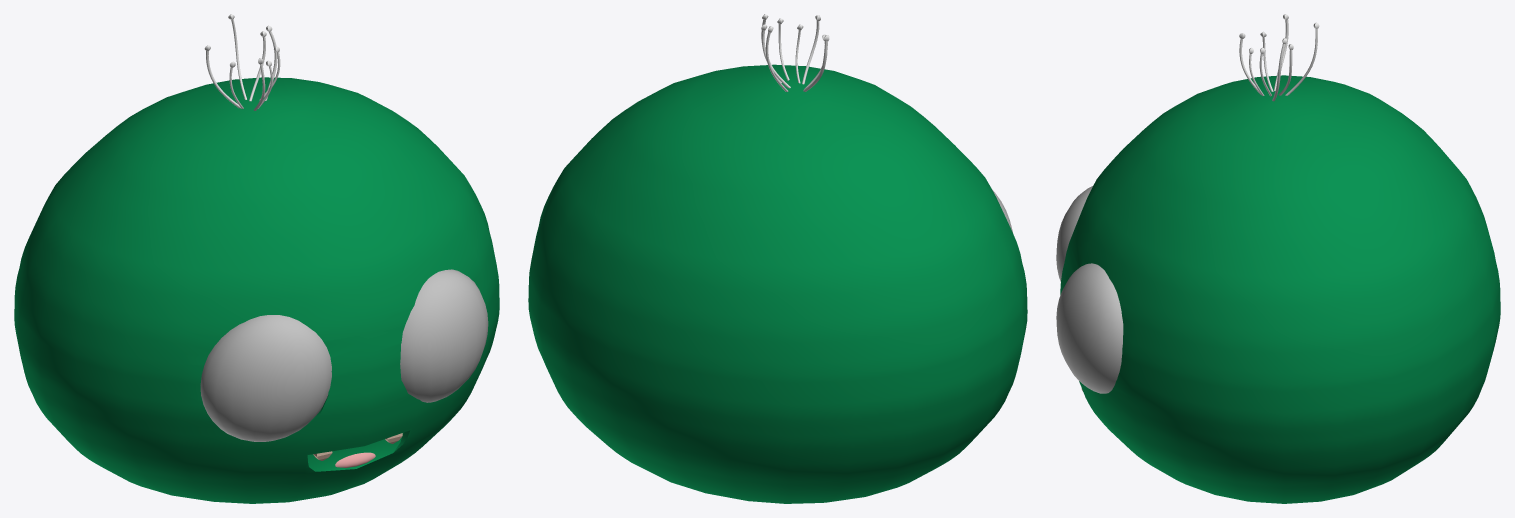
Rendered from raghav_33_scale.fbx.
3 renders of one model, left to right at view 1: azimuth 30°, elevation 25°; view 2: azimuth 150°, elevation 25°; view 3: azimuth 270°, elevation 25°, orthographic. The views are drawn at different scales.
Parts seen in each view (by area): view 1: pCube10; view 2: pCube10; view 3: pCube10.
Part boxes in pixels (box(x1,y1,x2,y2)): pCube10: box(14, 14, 499, 503); pCube10: box(528, 14, 1027, 503); pCube10: box(1056, 14, 1500, 503).
Size of the model in its own units: 1015 by 977 by 916.
